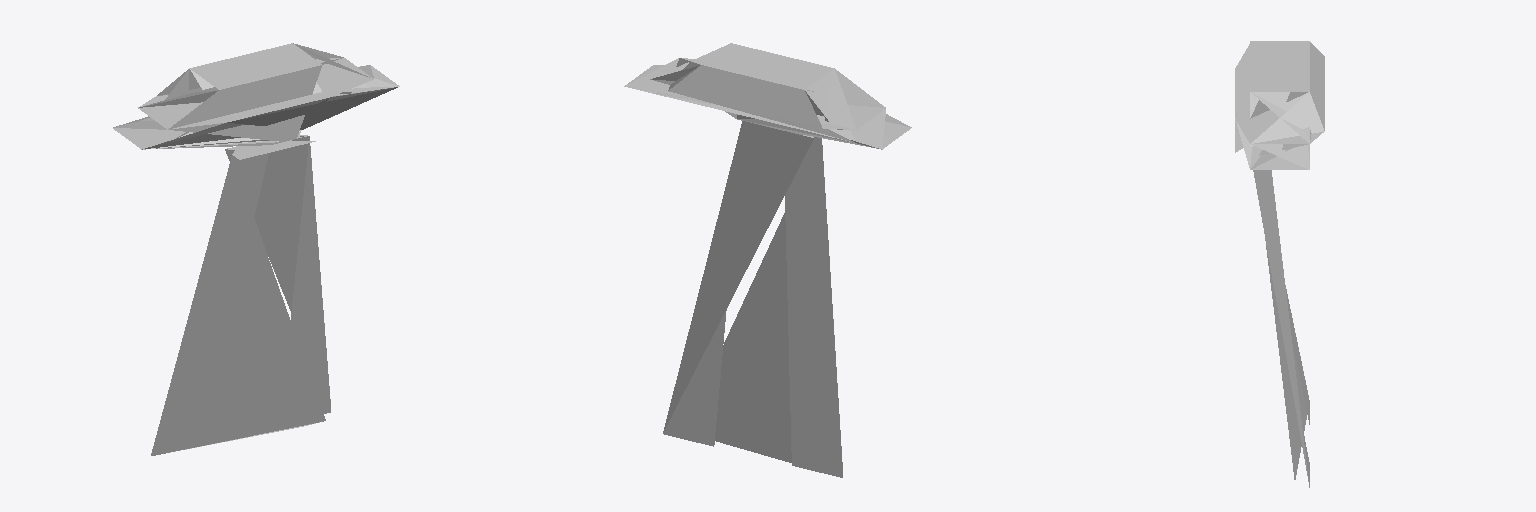
Rendered from red robot.obj.
3 renders of one model, left to right at view 1: azimuth 30°, elevation 25°; view 2: azimuth 150°, elevation 25°; view 3: azimuth 270°, elevation 25°, orthographic.
Size of the model in its own units: 20 by 28 by 6.